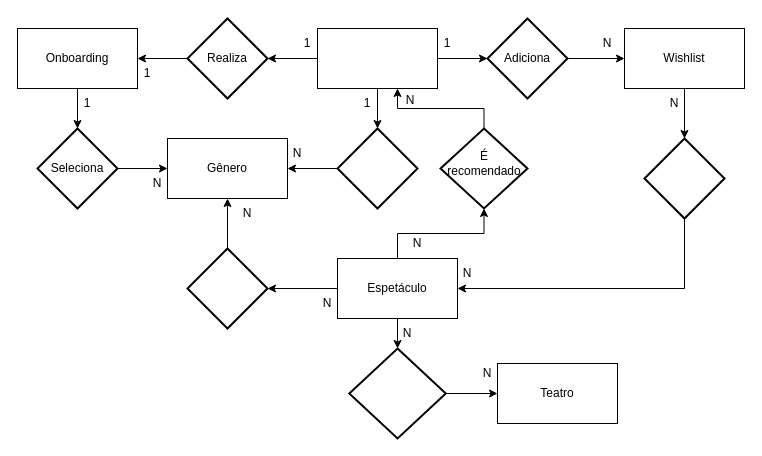
This 762x456 diagram has some shape labels left out. Here are the shapes that lost their labels. From the top down, the box of each, then its label:
(316, 28, 438, 88): Usuário
(336, 127, 418, 209): Prefere
(643, 137, 725, 219): Contém
(186, 247, 268, 329): Possui
(348, 347, 446, 439): Apresentado em
